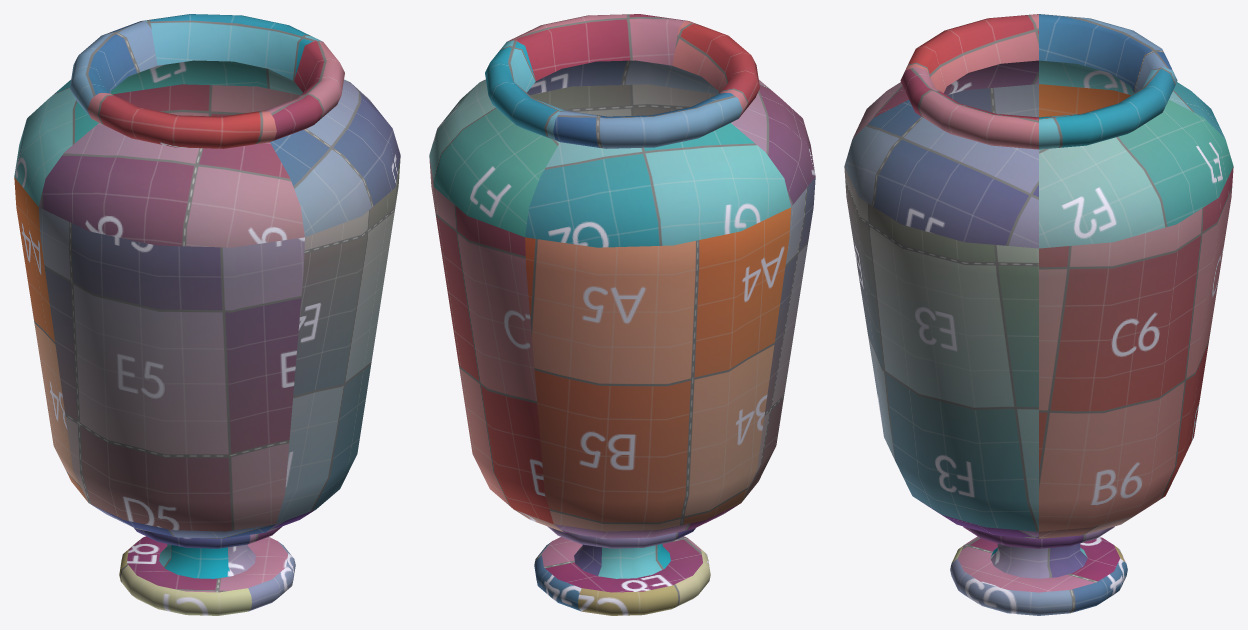
The model's file is MediumUrn_LOW.fbx.
The picture shows the model from 3 angles, left to right: view 1: azimuth 30°, elevation 25°; view 2: azimuth 150°, elevation 25°; view 3: azimuth 270°, elevation 25°; orthographic projection.
Parts seen in each view (by area): view 1: MediumUrn_LOW.001; view 2: MediumUrn_LOW.001; view 3: MediumUrn_LOW.001.
Part boxes in pixels (x1,y1,x2,y2): MediumUrn_LOW.001: (14,14,400,615); MediumUrn_LOW.001: (429,14,815,615); MediumUrn_LOW.001: (844,14,1233,615).
Size of the model in its own units: 1.13 by 1.65 by 1.13.
1 material, 1 textured.
